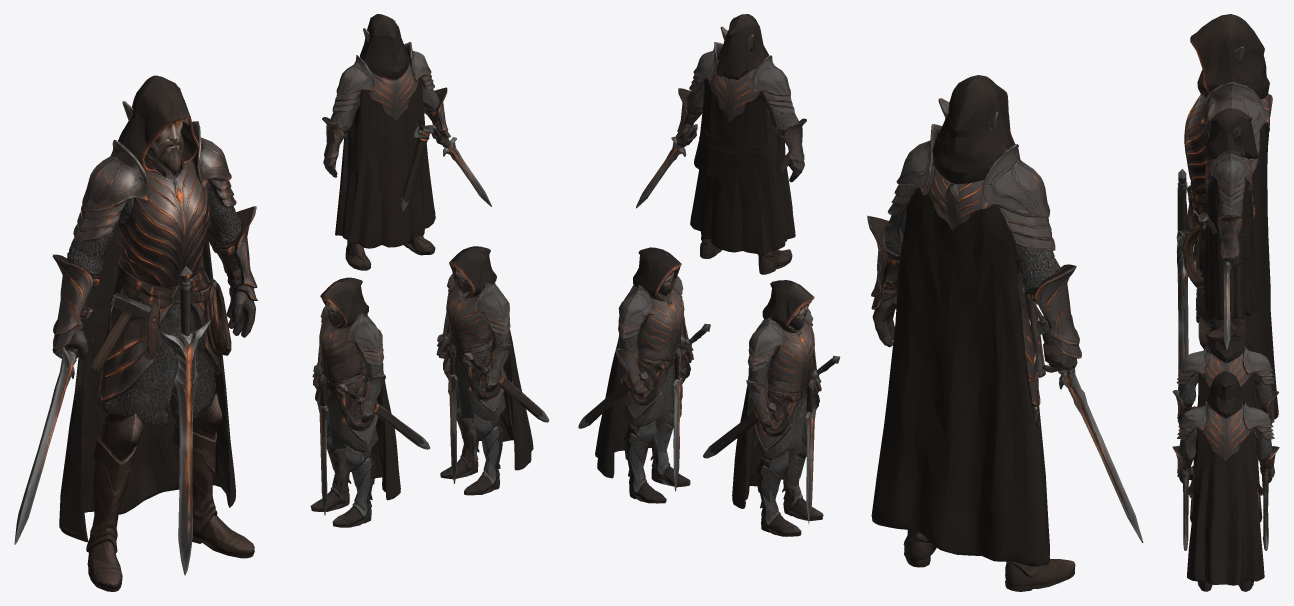
File: KILN-WARDEN-v1.glb
3 renders of one model, left to right at view 1: azimuth 30°, elevation 25°; view 2: azimuth 150°, elevation 25°; view 3: azimuth 270°, elevation 25°, orthographic. The views are drawn at different scales.
Parts seen in each view (by area): view 1: mesh_node; view 2: mesh_node; view 3: mesh_node.
Boxes of the visible parts, <box> form: mesh_node: <box>14,14,549,591</box>; mesh_node: <box>578,14,1143,591</box>; mesh_node: <box>1172,14,1279,591</box>.
Size of the model in its own units: 1.9 by 1.7 by 0.3762.
Materials: 1 (1 with a texture image).
